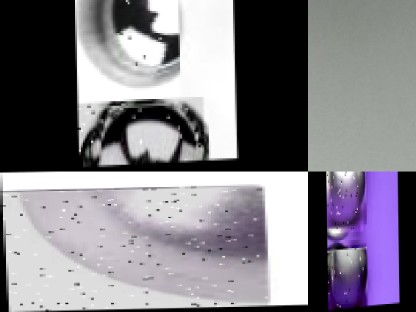ironball: (0, 184, 266, 310), (74, 0, 180, 102), (77, 96, 204, 168), (327, 243, 365, 310), (326, 171, 363, 233)
